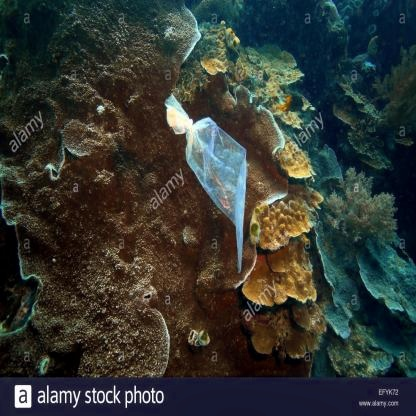pbag: (155, 87, 254, 275)
